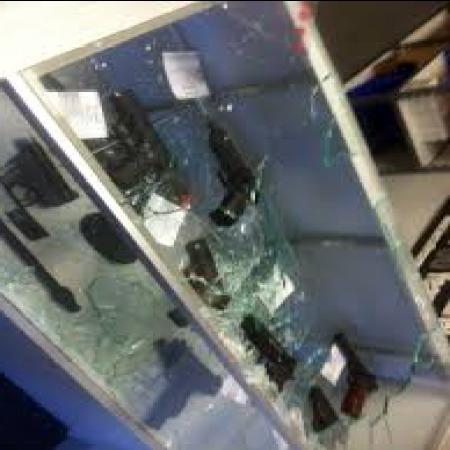Pistol: (232, 307, 318, 406), (107, 78, 183, 187), (206, 119, 282, 227), (162, 236, 250, 323), (327, 325, 406, 417)
